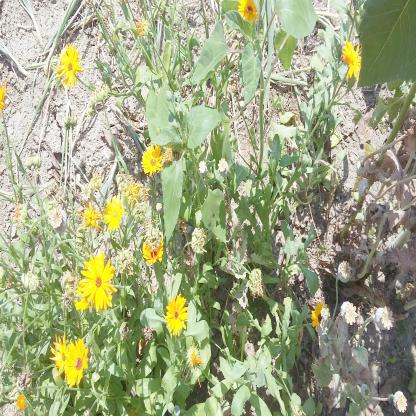marigold: (79, 250, 117, 314), (57, 41, 84, 89), (50, 331, 76, 379), (66, 339, 90, 388), (164, 294, 188, 336), (342, 38, 363, 82), (142, 233, 165, 266), (312, 298, 331, 336), (142, 142, 163, 176), (73, 281, 96, 312), (105, 196, 124, 233), (236, 0, 262, 25)
